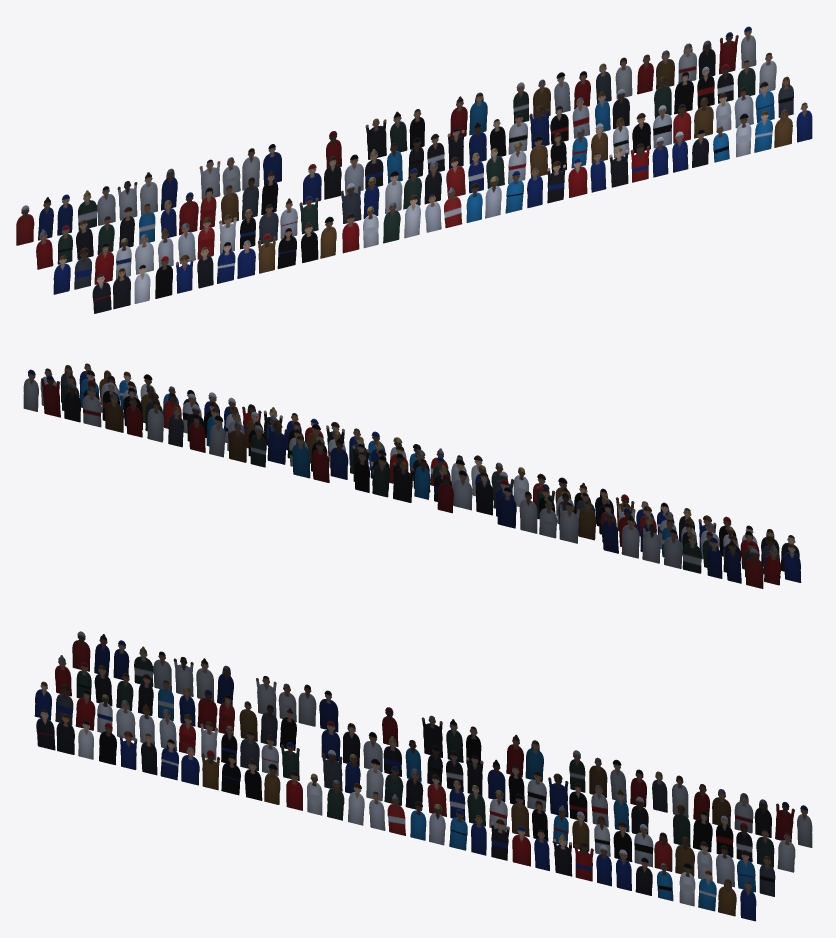
File: ArenaCrowd.fbx
3 views of the same model, one above another, from view 1: azimuth 30°, elevation 25°; view 2: azimuth 150°, elevation 25°; view 3: azimuth 330°, elevation 25° (orthographic).
Parts seen in each view (by area): view 1: ArenaCrowdRow0, ArenaCrowdRow1, ArenaCrowdRow2, ArenaCrowdRow3; view 2: ArenaCrowdRow3, ArenaCrowdRow2, ArenaCrowdRow1, ArenaCrowdRow0; view 3: ArenaCrowdRow0, ArenaCrowdRow1, ArenaCrowdRow2, ArenaCrowdRow3.
Part boxes in pixels (<box>): ArenaCrowdRow0: <box>92,102,812,313</box>; ArenaCrowdRow1: <box>53,76,793,294</box>; ArenaCrowdRow2: <box>36,52,776,269</box>; ArenaCrowdRow3: <box>16,26,756,245</box>; ArenaCrowdRow3: <box>23,369,763,588</box>; ArenaCrowdRow2: <box>40,368,780,585</box>; ArenaCrowdRow1: <box>60,365,801,582</box>; ArenaCrowdRow0: <box>79,363,799,571</box>; ArenaCrowdRow0: <box>36,709,756,921</box>; ArenaCrowdRow1: <box>34,681,775,896</box>; ArenaCrowdRow2: <box>55,655,795,872</box>; ArenaCrowdRow3: <box>72,631,812,847</box>.
Bounding box in the file's own units: 22 × 2.27 × 2.85.
Materials: 4 (4 with a texture image).
